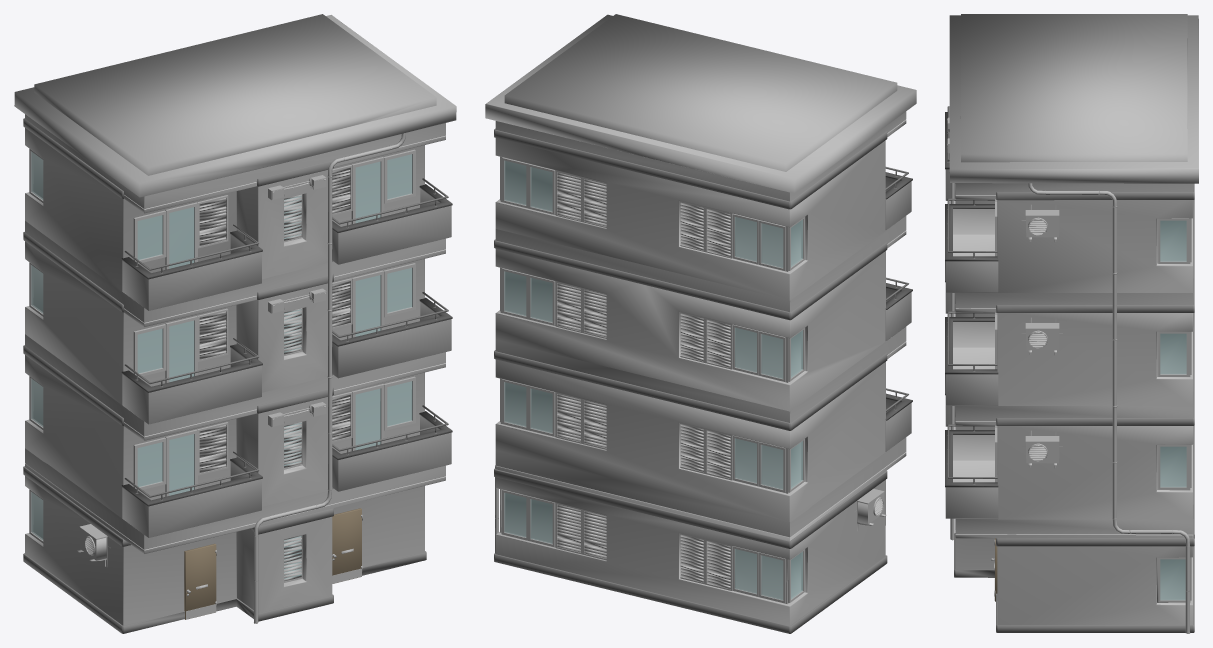
Rendered from apartment_03.fbx.
3 renders of one model, left to right at view 1: azimuth 30°, elevation 25°; view 2: azimuth 150°, elevation 25°; view 3: azimuth 270°, elevation 25°, orthographic. The views are drawn at different scales.
Parts seen in each view (by area): view 1: Box743.003; view 2: Box743.003; view 3: Box743.003.
Boxes of the visible parts, x1,y1,x2,y2 form: Box743.003: (14, 14, 456, 633); Box743.003: (485, 14, 916, 633); Box743.003: (945, 14, 1198, 633).
Bounding box in the file's own units: 1218 × 1664 × 805.
